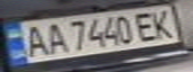0: (115, 12, 136, 45)
4: (84, 15, 106, 49), (103, 14, 124, 47)
7: (66, 17, 87, 52)
A: (18, 22, 51, 58), (39, 20, 69, 55)
E: (133, 10, 163, 43)
K: (148, 7, 178, 39)
